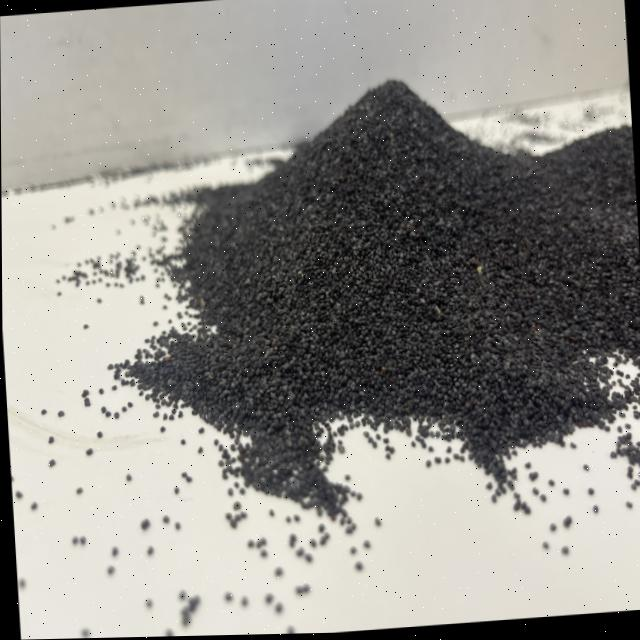Poppy Seeds: (116, 51, 640, 528)
